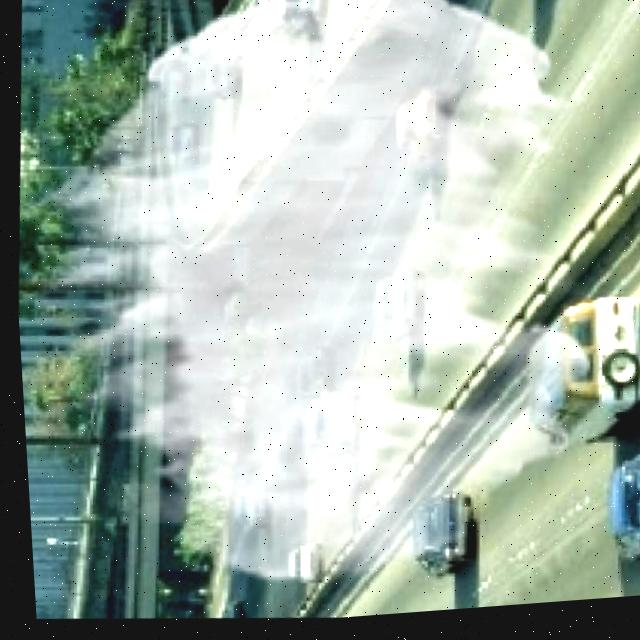Smoke: (33, 0, 594, 589)
